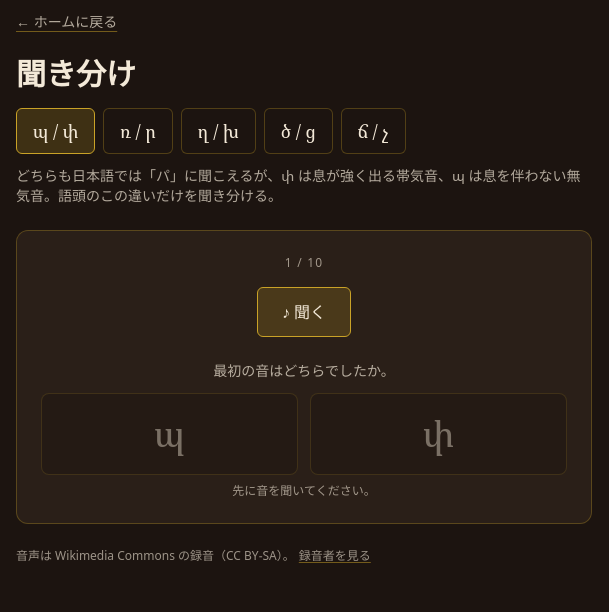
Test case: ListeningChallenge（聞き分けチャレンジ, roadmap 3-2） › says so honestly when the audio cannot be played
Click the button "♪ 聞く": (304, 312) left=257, top=287, right=351, bottom=337
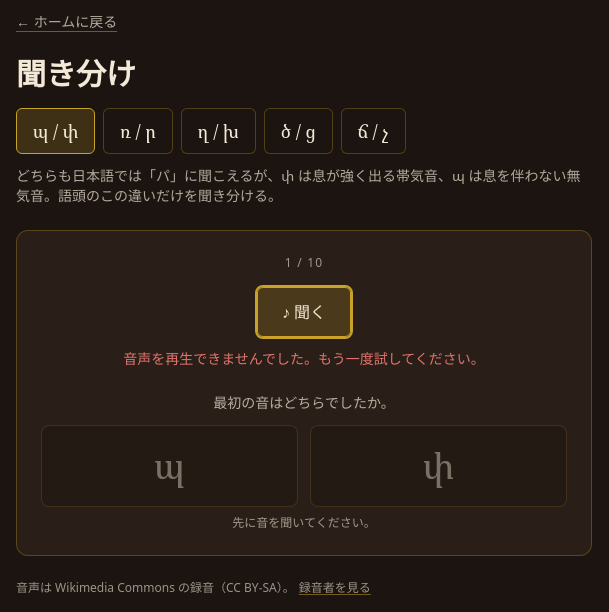
expect the text "音声を再生できませんでした。もう一度試してください。" is shown: met, box left=123, top=349, right=485, bottom=368
